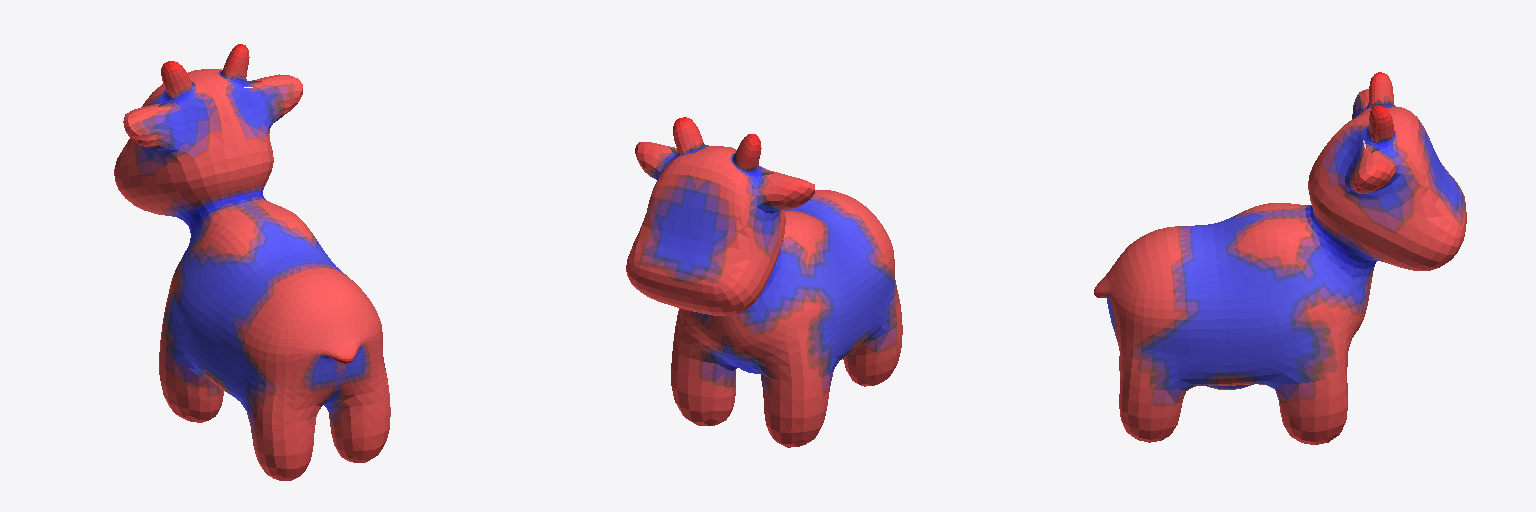
3 renders of one model, left to right at view 1: azimuth 30°, elevation 25°; view 2: azimuth 150°, elevation 25°; view 3: azimuth 270°, elevation 25°, orthographic.
Size of the model in its own units: 0.8784 by 1.57 by 1.6.
Materials: 1 (1 with a texture image).